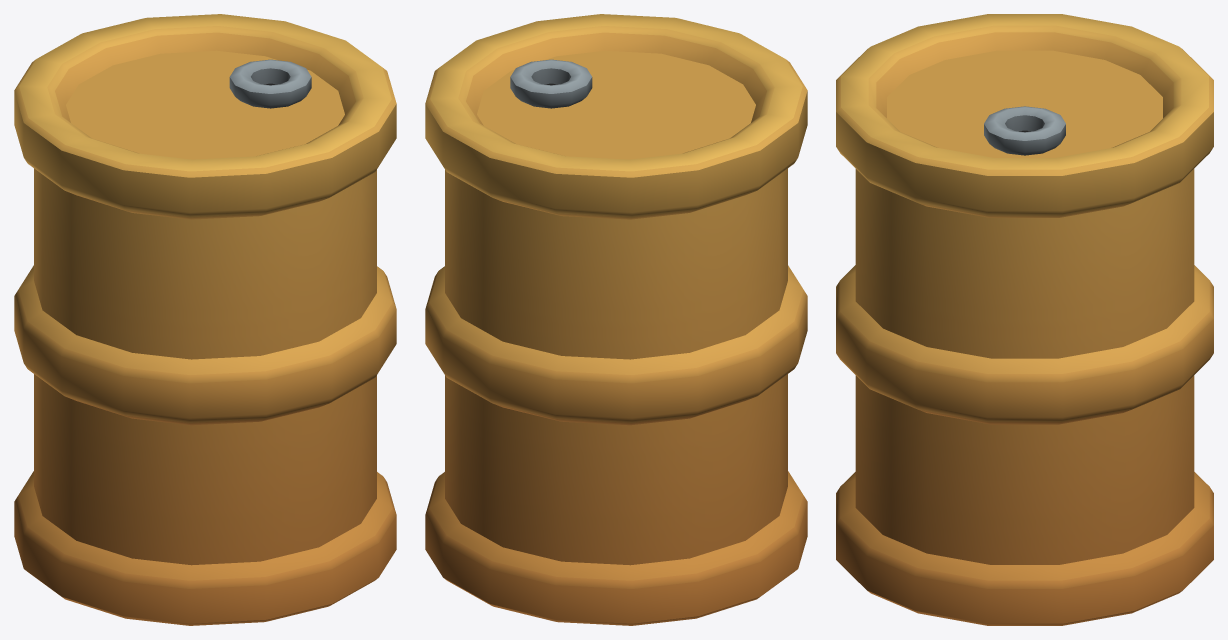
Rendered from fuel_b_barrel.glb.
The picture shows the model from 3 angles, left to right: view 1: azimuth 30°, elevation 25°; view 2: azimuth 150°, elevation 25°; view 3: azimuth 270°, elevation 25°; orthographic projection.
Visible parts, largest first — view 1: Fuel_B_Barrel; view 2: Fuel_B_Barrel; view 3: Fuel_B_Barrel.
Boxes of the visible parts, box(x1,y1,x2,y2) form: Fuel_B_Barrel: box(14, 14, 396, 625); Fuel_B_Barrel: box(425, 14, 807, 625); Fuel_B_Barrel: box(836, 14, 1213, 625).
Bounding box in the file's own units: 0.45 × 0.6045 × 0.45.
1 material, 1 textured.
